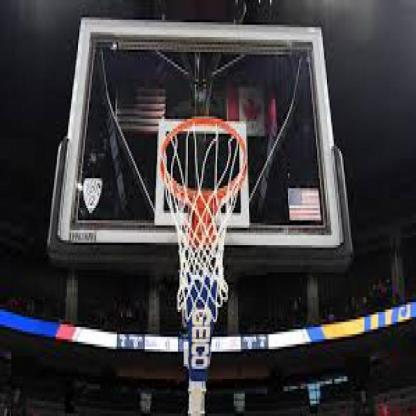rim: (158, 114, 247, 205)
